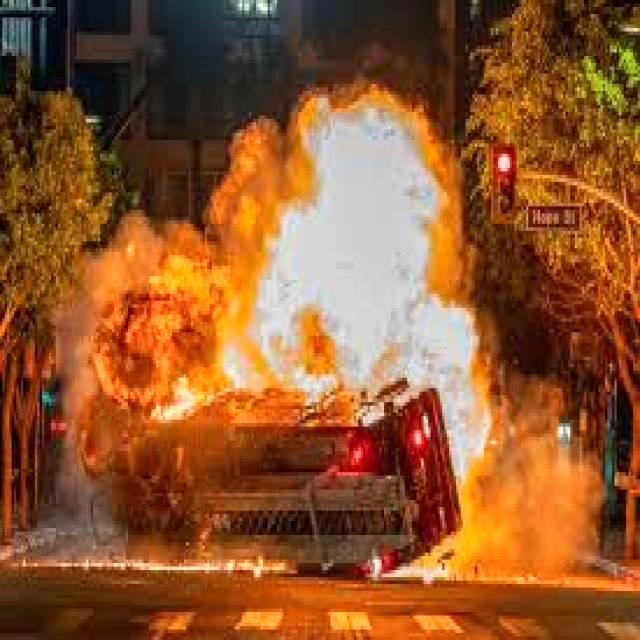fire: (178, 87, 500, 421), (402, 418, 618, 576), (76, 258, 206, 454)
